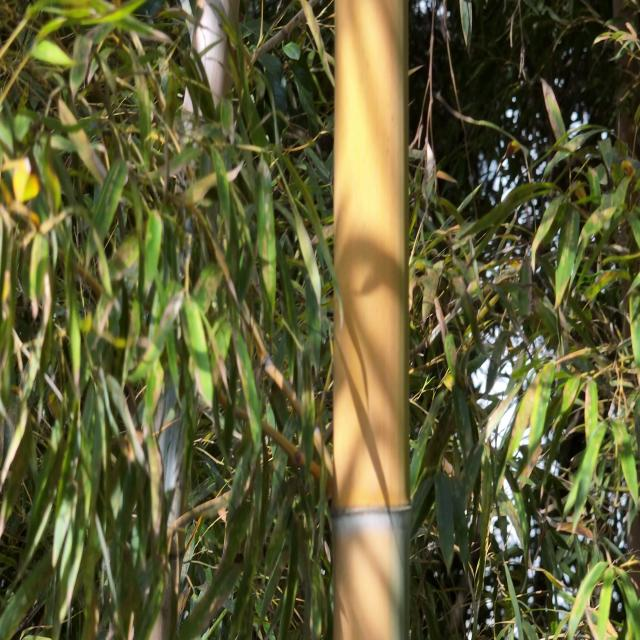Bamboo-shoots: (335, 0, 410, 640)
